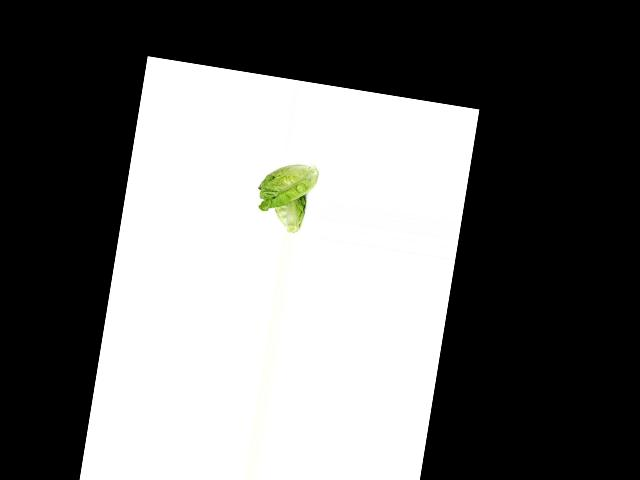lettuce: (269, 190, 310, 236)
